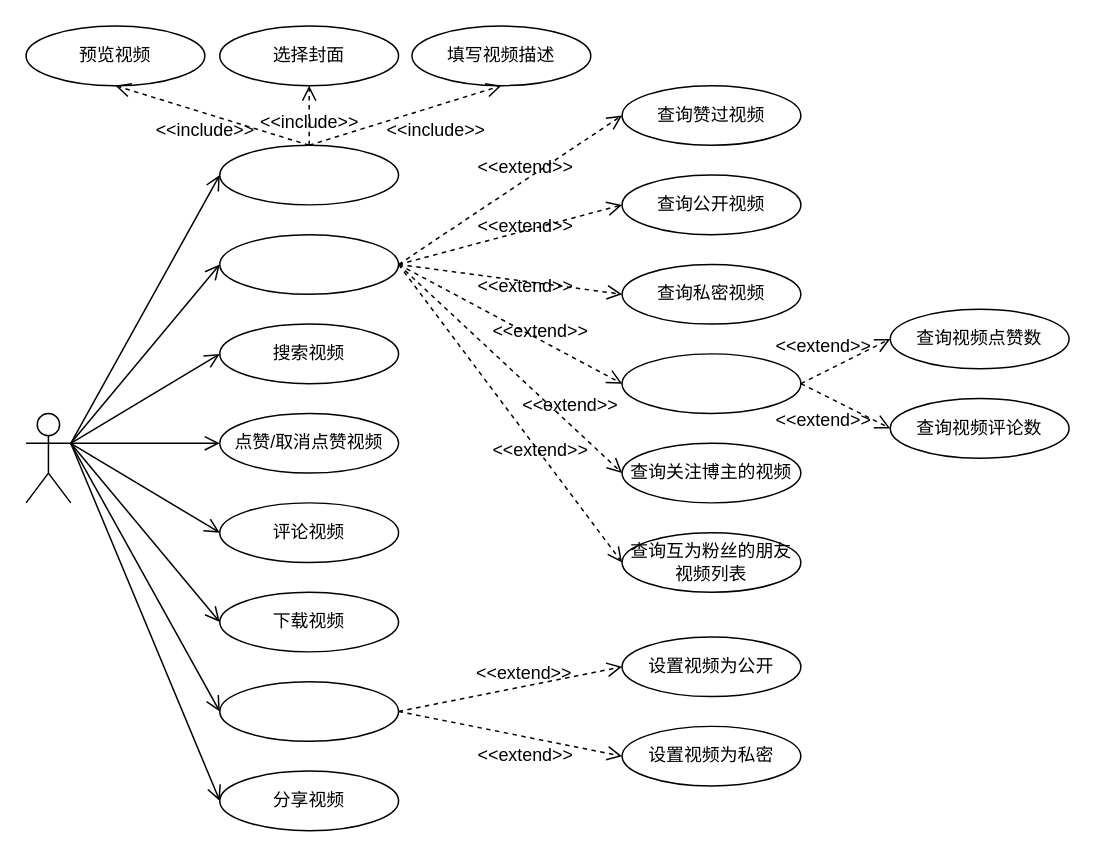
Some shapes in this 1095 by 857 pixel diagram are drawn without their labels. Each missing label, with the centre of its shape:
"修改视频展示状态" goes at point (308, 710).
"发布视频" goes at point (308, 174).
"查询单个视频详情" goes at point (711, 382).
"查询视频" goes at point (308, 263).
"用户" goes at point (48, 457).
